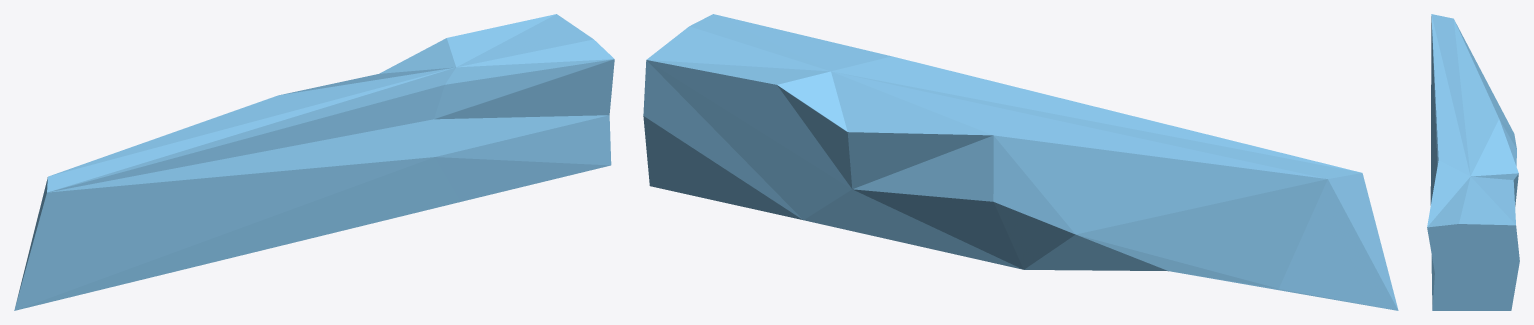
Rendered from SP_Rock03.fbx.
3 renders of one model, left to right at view 1: azimuth 30°, elevation 25°; view 2: azimuth 150°, elevation 25°; view 3: azimuth 270°, elevation 25°, orthographic. The views are drawn at different scales.
Visible parts, largest first — view 1: SP_Rock03; view 2: SP_Rock03; view 3: SP_Rock03.
Boxes of the visible parts, x1,y1,x2,y2 form: SP_Rock03: (14,14,614,310); SP_Rock03: (643,14,1398,310); SP_Rock03: (1427,14,1519,310).
Size of the model in its own units: 358 by 67.21 by 62.83.
1 material, 1 textured.
